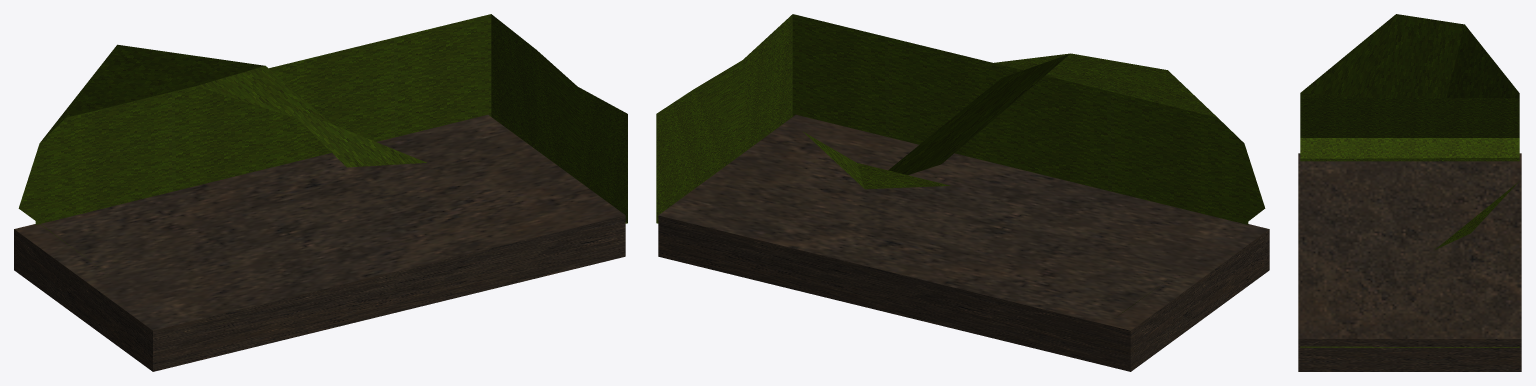
File: ground3.fbx
3 views of the same model, side by side, from view 1: azimuth 30°, elevation 25°; view 2: azimuth 150°, elevation 25°; view 3: azimuth 270°, elevation 25° (orthographic). The views are drawn at different scales.
Visible parts, largest first — view 1: Cube.001, Cube; view 2: Cube.001, Cube; view 3: Cube.001, Cube.
Part boxes in pixels (x1,y1,x2,y2): Cube.001: (14, 115, 625, 371); Cube: (18, 14, 627, 268); Cube.001: (658, 114, 1269, 371); Cube: (656, 14, 1265, 315); Cube.001: (1298, 153, 1521, 371); Cube: (1300, 14, 1519, 347).
Size of the model in its own units: 1219 by 570 by 611.
